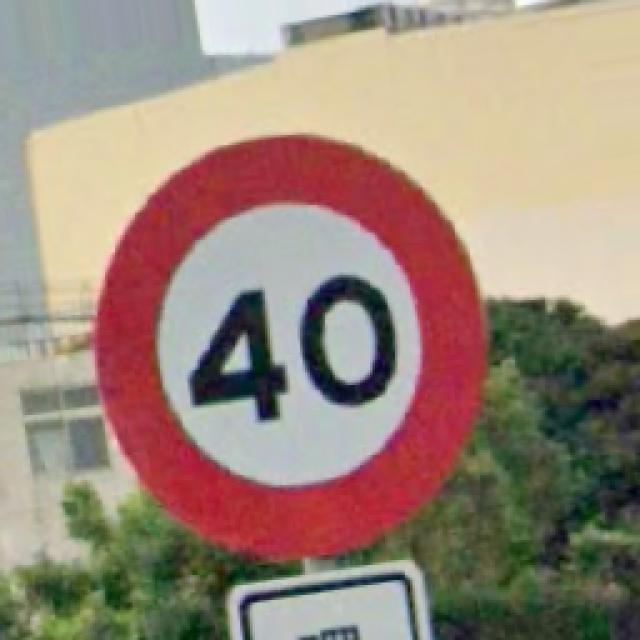Speed Limit -40-: (98, 138, 482, 555)
